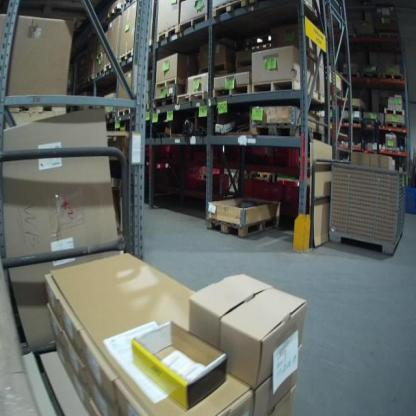pallet: (255, 71, 361, 179), (207, 214, 281, 239), (252, 80, 324, 104), (252, 122, 325, 143), (212, 0, 250, 18), (179, 13, 209, 34), (213, 84, 252, 99), (176, 90, 208, 105), (155, 76, 185, 91), (157, 25, 179, 43), (154, 96, 175, 109), (108, 3, 124, 19), (119, 48, 134, 63), (383, 108, 406, 117), (379, 32, 400, 41), (235, 58, 252, 69), (384, 121, 406, 129), (383, 72, 403, 80), (118, 107, 130, 118), (341, 106, 363, 112), (341, 119, 362, 124), (96, 68, 105, 78), (85, 75, 95, 84), (105, 112, 116, 120), (104, 62, 112, 72)
stillage: (327, 164, 407, 258)
